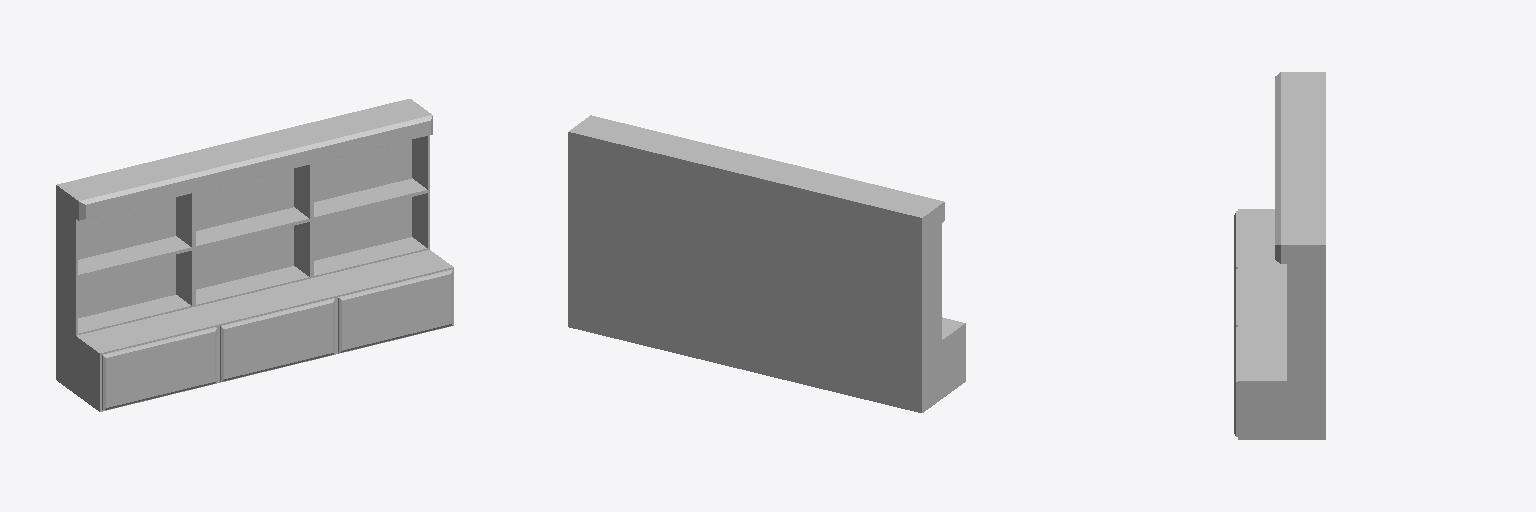
The model's file is Big-shelf.obj.
3 views of the same model, side by side, from view 1: azimuth 30°, elevation 25°; view 2: azimuth 150°, elevation 25°; view 3: azimuth 270°, elevation 25° (orthographic).
Parts seen in each view (by area): view 1: Cube; view 2: Cube; view 3: Cube.
Boxes of the visible parts, x1=… form: Cube: x1=56, y1=99, x2=453, y2=411; Cube: x1=568, y1=115, x2=965, y2=412; Cube: x1=1234, y1=72, x2=1325, y2=439.
Bounding box in the file's own units: 25.28 × 13.34 × 5.63.